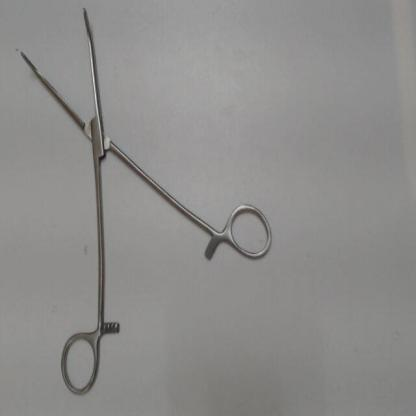Lahey Forceps: (15, 1, 278, 401)
